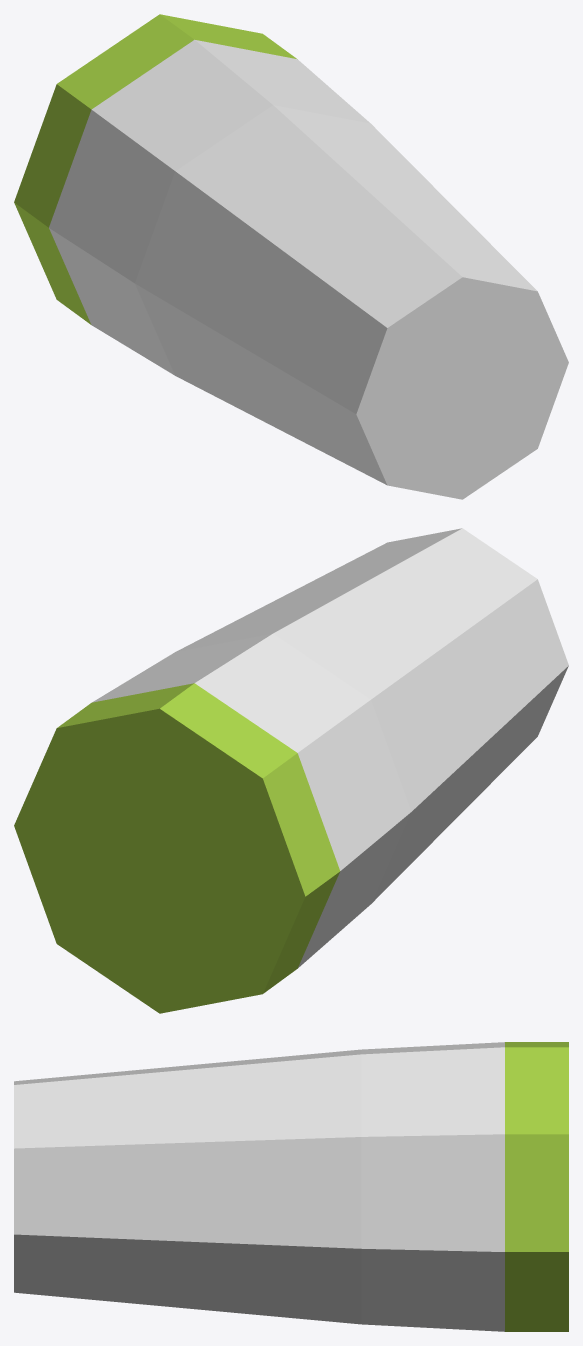
File: pillar 8-gon.fbx
3 renders of one model, top to bottom at view 1: azimuth 30°, elevation 25°; view 2: azimuth 150°, elevation 25°; view 3: azimuth 270°, elevation 25°, orthographic. The views are drawn at different scales.
Visible parts, largest first — view 1: Terrain Rock; view 2: Terrain Rock; view 3: Terrain Rock.
Boxes of the visible parts, left/top/right/bottom form: Terrain Rock: left=14, top=14, right=568, bottom=499; Terrain Rock: left=14, top=528, right=568, bottom=1013; Terrain Rock: left=14, top=1042, right=568, bottom=1331.
Bounding box in the file's own units: 0.7128 × 0.7128 × 1.28.
